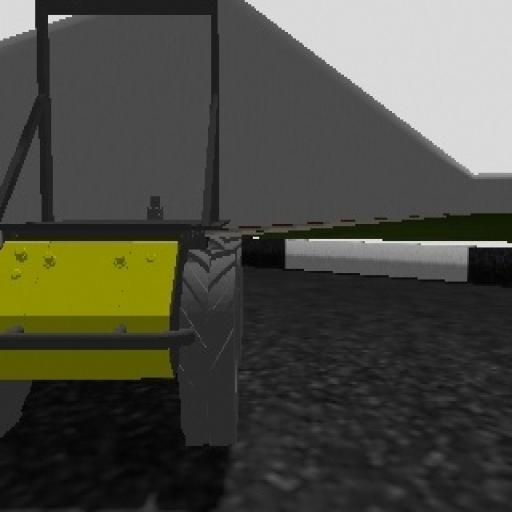huskya200: (1, 1, 253, 505)
